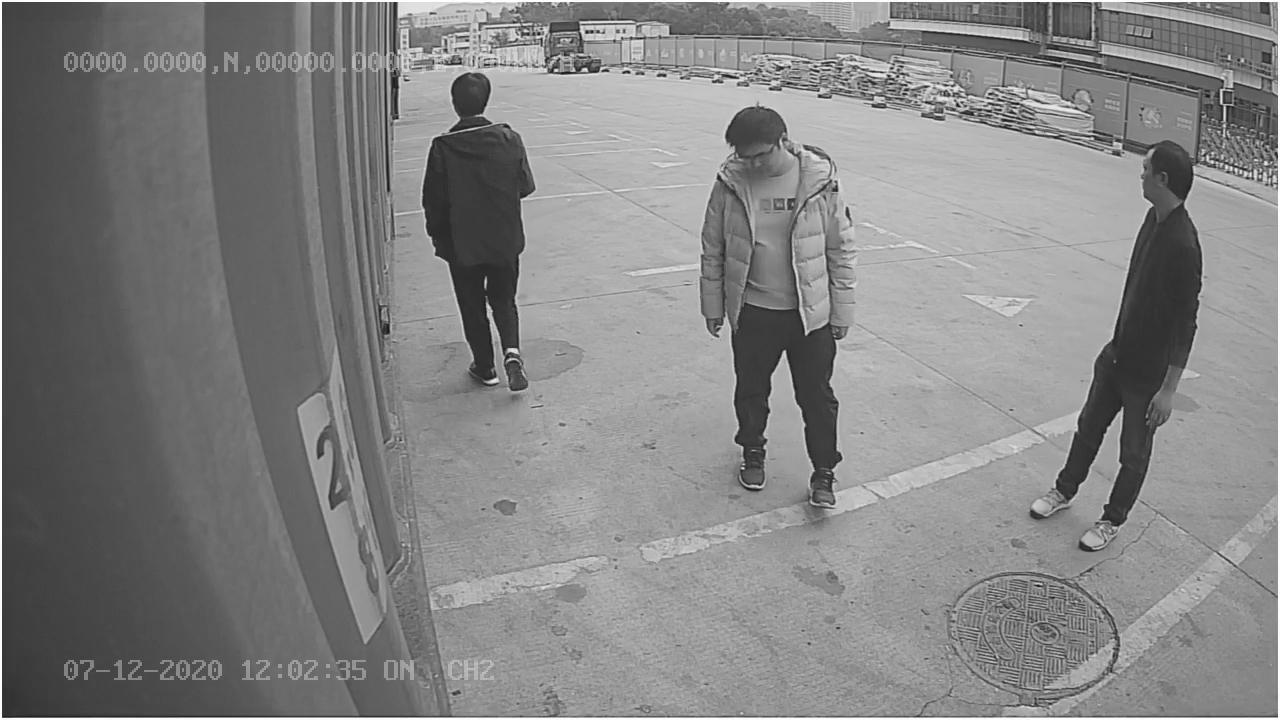person: (1030, 136, 1209, 554), (691, 94, 861, 514), (421, 73, 537, 394)
